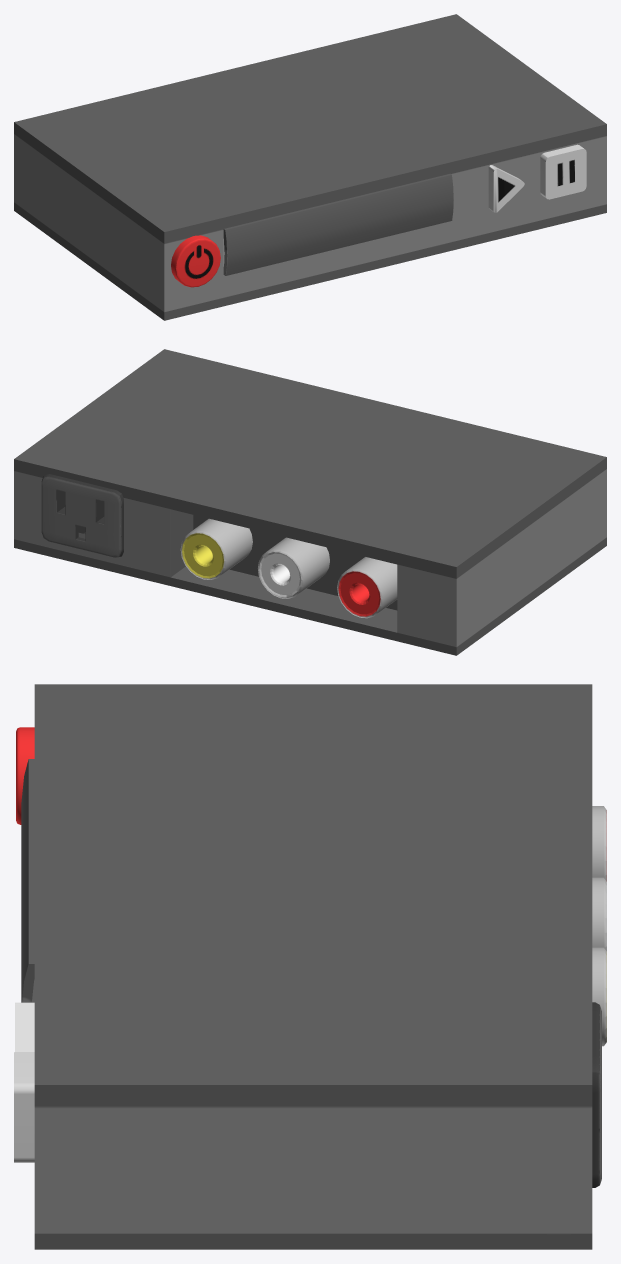
File: VCR.fbx
3 renders of one model, top to bottom at view 1: azimuth 30°, elevation 25°; view 2: azimuth 150°, elevation 25°; view 3: azimuth 270°, elevation 25°, orthographic. The views are drawn at different scales.
Parts seen in each view (by area): view 1: VCR_Main, VCR_Mouth, VCR_Pause, VCR_Power, VCR_Play; view 2: VCR_Main; view 3: VCR_Main, VCR_Mouth, VCR_Pause, VCR_Power, VCR_Play.
Boxes of the visible parts, x1,y1,x2,y2 form: VCR_Main: (14, 14, 606, 320); VCR_Mouth: (223, 173, 453, 275); VCR_Pause: (540, 144, 586, 199); VCR_Power: (171, 235, 220, 287); VCR_Play: (488, 165, 524, 212); VCR_Main: (14, 349, 606, 655); VCR_Main: (34, 684, 606, 1249); VCR_Mouth: (21, 759, 34, 1002); VCR_Pause: (14, 1052, 34, 1162); VCR_Power: (16, 727, 34, 824); VCR_Play: (15, 1002, 34, 1052).
Bounding box in the file's own units: 42.49 × 8.14 × 26.58.
